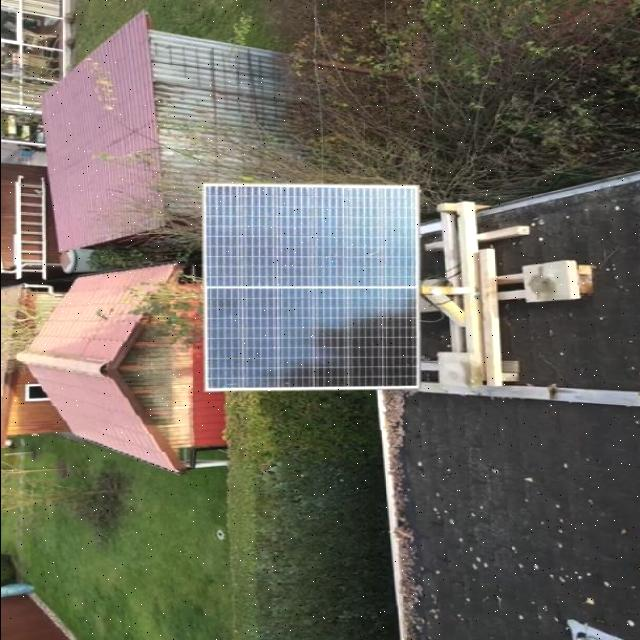Normal Solar Panel: (204, 184, 418, 390)
